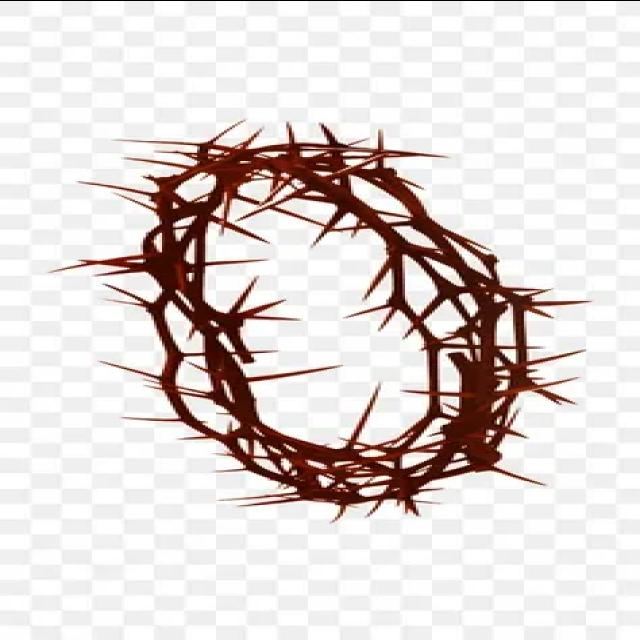crown: (104, 132, 548, 512)
